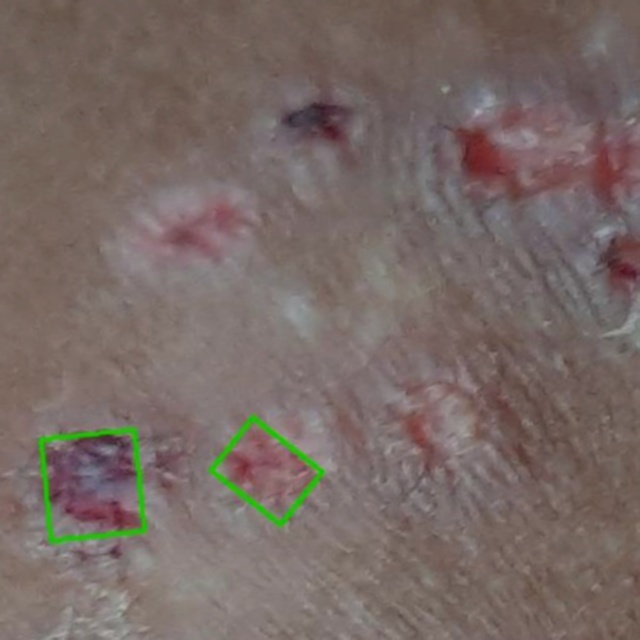Eczema: (211, 416, 322, 524), (41, 429, 144, 539)
